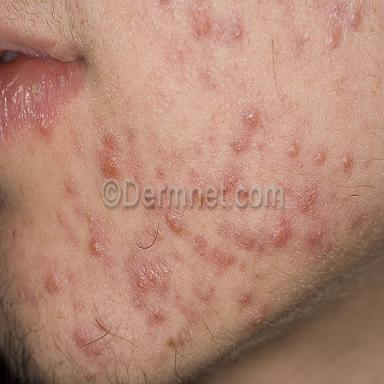acne: (132, 260, 172, 307), (327, 0, 361, 49), (97, 131, 119, 177), (191, 1, 211, 37), (272, 217, 292, 247), (299, 186, 319, 214), (165, 208, 185, 234), (45, 270, 60, 295), (242, 106, 259, 128), (231, 136, 251, 154), (73, 330, 89, 348), (89, 237, 103, 257), (307, 228, 323, 245), (149, 306, 164, 324), (38, 118, 53, 134), (287, 139, 299, 157), (342, 153, 352, 170), (240, 290, 253, 303), (316, 151, 326, 167), (233, 24, 242, 39)
